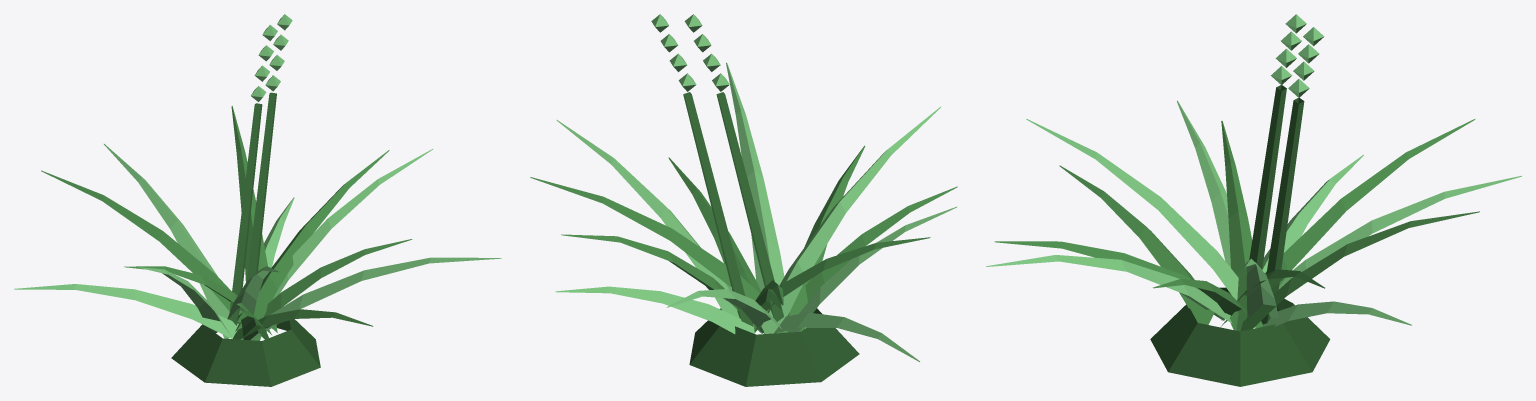
The model's file is GrassTuft.fbx.
The picture shows the model from 3 angles, left to right: view 1: azimuth 30°, elevation 25°; view 2: azimuth 150°, elevation 25°; view 3: azimuth 270°, elevation 25°; orthographic projection. The views are drawn at different scales.
Visible parts, largest first — view 1: GrassTuft; view 2: GrassTuft; view 3: GrassTuft.
Boxes of the visible parts, <box> form: GrassTuft: <box>14,14,501,386</box>; GrassTuft: <box>530,14,957,386</box>; GrassTuft: <box>986,14,1521,386</box>.
Size of the model in its own units: 93.34 by 73.1 by 98.58.
